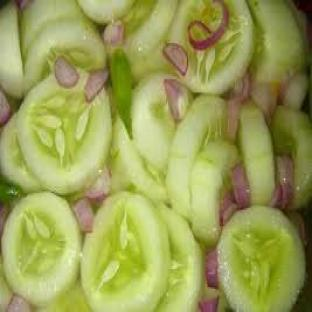Cucumber: (17, 71, 112, 194), (81, 194, 170, 311), (218, 207, 304, 311), (2, 192, 80, 305), (166, 96, 226, 219), (24, 19, 106, 89), (156, 207, 204, 311), (190, 141, 238, 245), (110, 118, 167, 201), (131, 75, 176, 171), (272, 106, 311, 207), (239, 103, 274, 204), (0, 114, 39, 191), (0, 2, 23, 97), (110, 48, 133, 137), (37, 283, 92, 311), (131, 43, 171, 80), (283, 71, 308, 108), (201, 286, 231, 311), (0, 256, 12, 311), (309, 53, 311, 120)
